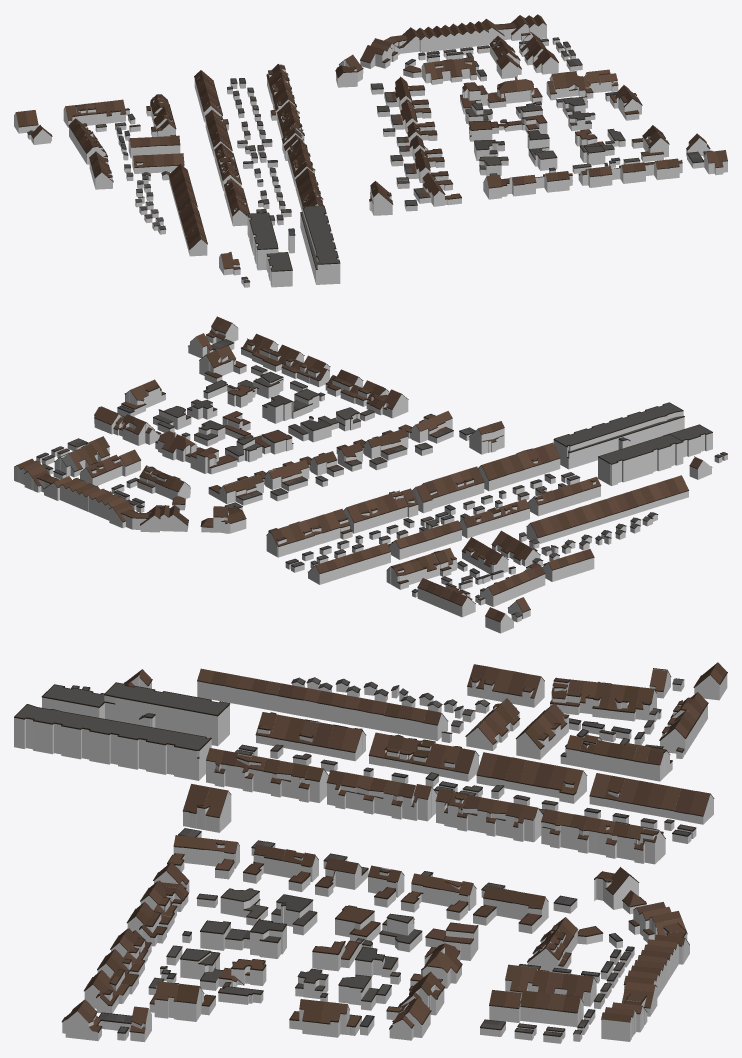
Rendered from panden.glb.
3 views of the same model, one above another, from view 1: azimuth 30°, elevation 25°; view 2: azimuth 150°, elevation 25°; view 3: azimuth 270°, elevation 25° (orthographic). The views are drawn at different scales.
Parts seen in each view (by area): view 1: dak, gevel_rij70, rand, gevel_schuur; view 2: gevel_rij70, dak, rand, gevel_schuur; view 3: gevel_rij70, dak, rand, gevel_schuur.
Boxes of the visible parts, x1,y1,x2,y2 form: dak: (16, 14, 727, 281); gevel_rij70: (14, 23, 727, 287); rand: (19, 16, 727, 282); gevel_schuur: (27, 39, 704, 287); gevel_rij70: (14, 323, 712, 633); dak: (17, 316, 726, 621); rand: (14, 323, 727, 622); gevel_schuur: (36, 343, 727, 622); gevel_rij70: (14, 669, 727, 1042); dak: (15, 662, 726, 1035); rand: (14, 668, 727, 1036); gevel_schuur: (79, 680, 696, 1043).
Size of the model in its own units: 299 by 13.76 by 252.
